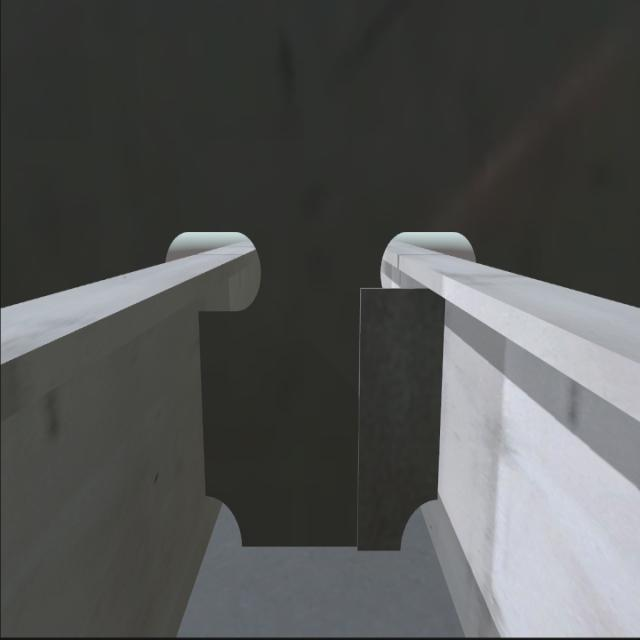fillet_hole: (400, 500, 446, 556), (211, 497, 244, 549)
fillet_yong_jeop_jang: (240, 532, 406, 558)
longi_yong_jeop_jang: (194, 305, 217, 491), (430, 290, 448, 500)
plate_CP01: (356, 285, 441, 559)
